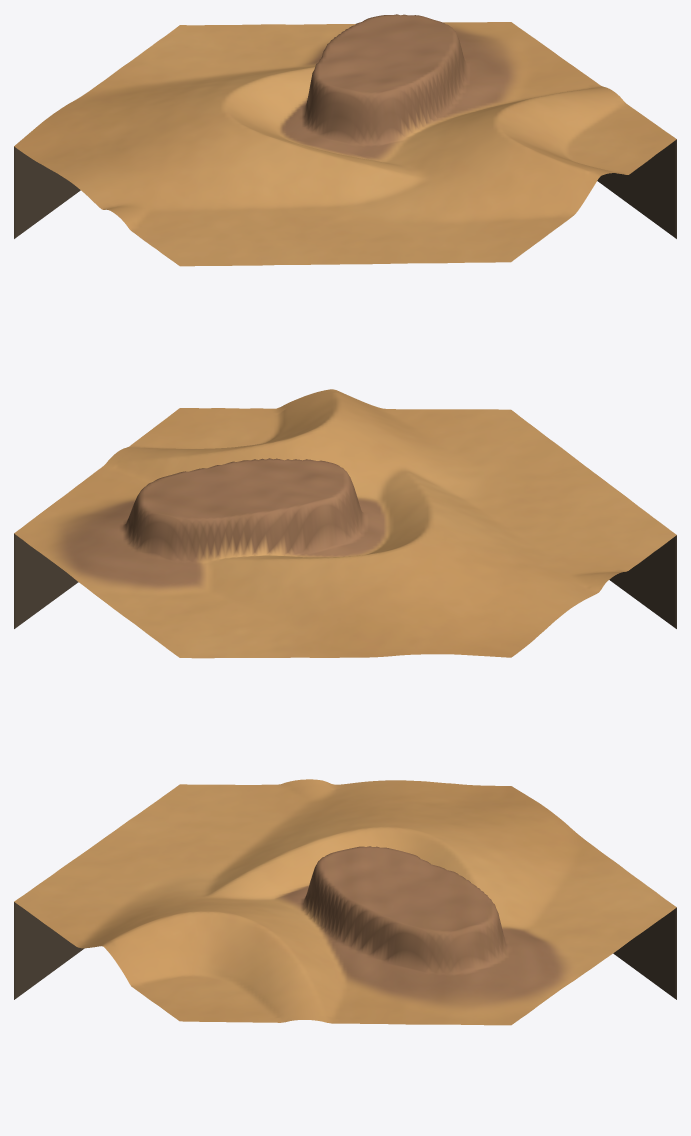
3 views of the same model, one above another, from view 1: azimuth 30°, elevation 25°; view 2: azimuth 150°, elevation 25°; view 3: azimuth 270°, elevation 25° (orthographic).
Parts seen in each view (by area): view 1: terrain, hex_side_cut; view 2: terrain, hex_side_cut; view 3: terrain, hex_side_cut.
Part boxes in pixels (x1,y1,x2,y2): terrain: (14, 14, 676, 266); hex_side_cut: (14, 139, 676, 238); terrain: (14, 389, 676, 658); hex_side_cut: (14, 533, 676, 628); terrain: (14, 779, 676, 1025); hex_side_cut: (14, 902, 676, 999).
Bounding box in the file's own units: 4330 × 1250 × 5000.
